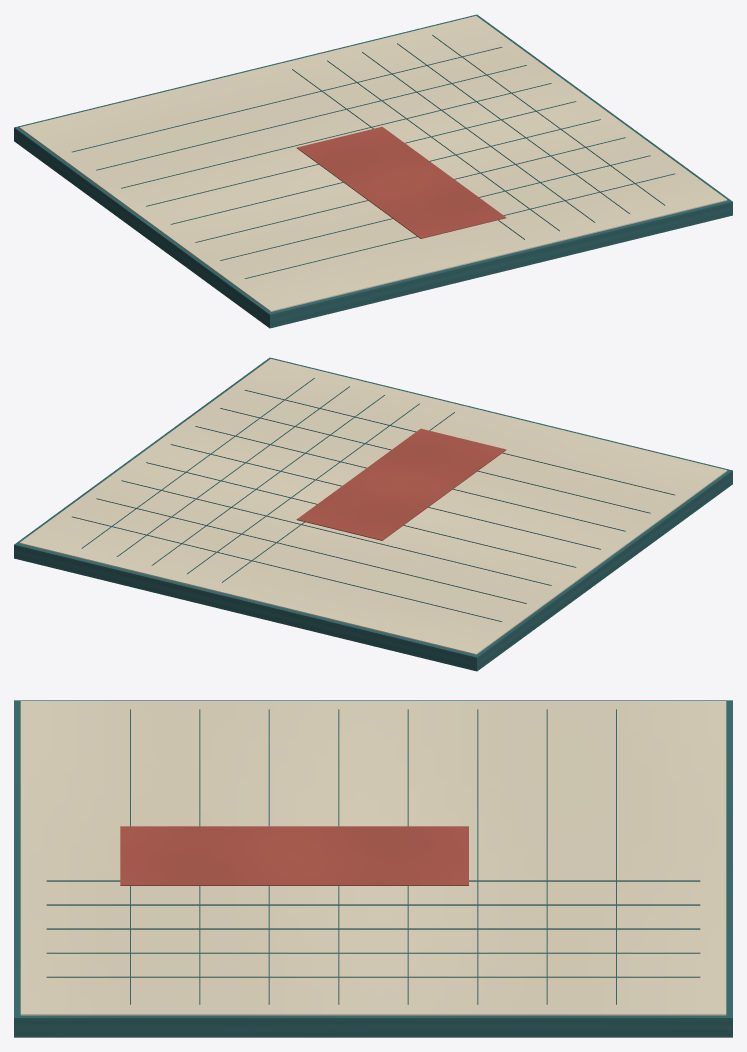
The model's file is atlas100-s033-a07.lod2.glb.
3 views of the same model, one above another, from view 1: azimuth 30°, elevation 25°; view 2: azimuth 150°, elevation 25°; view 3: azimuth 270°, elevation 25° (orthographic). The views are drawn at different scales.
Visible parts, largest first — view 1: atlas100-s033-a07:part-001, atlas100-s033-a07:part-000, atlas100-s033-a07:part-021, atlas100-s033-a07:part-015, atlas100-s033-a07:part-013, atlas100-s033-a07:part-014, atlas100-s033-a07:part-019, atlas100-s033-a07:part-020, atlas100-s033-a07:part-016, atlas100-s033-a07:part-017, atlas100-s033-a07:part-018; view 2: atlas100-s033-a07:part-001, atlas100-s033-a07:part-000, atlas100-s033-a07:part-021, atlas100-s033-a07:part-014, atlas100-s033-a07:part-013, atlas100-s033-a07:part-015, atlas100-s033-a07:part-016, atlas100-s033-a07:part-017, atlas100-s033-a07:part-018, atlas100-s033-a07:part-020, atlas100-s033-a07:part-019; view 3: atlas100-s033-a07:part-001, atlas100-s033-a07:part-000, atlas100-s033-a07:part-021, atlas100-s033-a07:part-010, atlas100-s033-a07:part-009, atlas100-s033-a07:part-012, atlas100-s033-a07:part-011, atlas100-s033-a07:part-008, atlas100-s033-a07:part-014, atlas100-s033-a07:part-015.
Boxes of the visible parts, x1,y1,x2,y2 form: atlas100-s033-a07:part-001: [19, 16, 727, 311]; atlas100-s033-a07:part-000: [14, 14, 732, 328]; atlas100-s033-a07:part-021: [297, 126, 506, 238]; atlas100-s033-a07:part-015: [121, 83, 551, 188]; atlas100-s033-a07:part-013: [72, 47, 502, 152]; atlas100-s033-a07:part-014: [96, 65, 526, 170]; atlas100-s033-a07:part-019: [220, 155, 650, 260]; atlas100-s033-a07:part-020: [244, 173, 674, 278]; atlas100-s033-a07:part-016: [146, 101, 576, 206]; atlas100-s033-a07:part-017: [170, 119, 600, 224]; atlas100-s033-a07:part-018: [195, 137, 625, 242]; atlas100-s033-a07:part-001: [19, 359, 727, 654]; atlas100-s033-a07:part-000: [14, 357, 732, 671]; atlas100-s033-a07:part-021: [296, 428, 506, 540]; atlas100-s033-a07:part-014: [96, 498, 526, 603]; atlas100-s033-a07:part-013: [72, 516, 502, 621]; atlas100-s033-a07:part-015: [121, 480, 551, 585]; atlas100-s033-a07:part-016: [146, 462, 576, 567]; atlas100-s033-a07:part-017: [170, 444, 600, 549]; atlas100-s033-a07:part-018: [195, 426, 625, 531]; atlas100-s033-a07:part-020: [244, 390, 674, 495]; atlas100-s033-a07:part-019: [220, 408, 650, 513]; atlas100-s033-a07:part-001: [20, 701, 726, 1015]; atlas100-s033-a07:part-000: [14, 700, 732, 1037]; atlas100-s033-a07:part-021: [120, 826, 468, 885]; atlas100-s033-a07:part-010: [46, 928, 700, 929]; atlas100-s033-a07:part-009: [46, 904, 700, 905]; atlas100-s033-a07:part-012: [46, 976, 700, 977]; atlas100-s033-a07:part-011: [46, 952, 700, 953]; atlas100-s033-a07:part-008: [46, 880, 700, 881]; atlas100-s033-a07:part-014: [546, 709, 547, 1004]; atlas100-s033-a07:part-015: [477, 709, 478, 1004].
Size of the model in its own units: 11.9 by 0.404 by 11.39.
3 materials, 3 textured.
